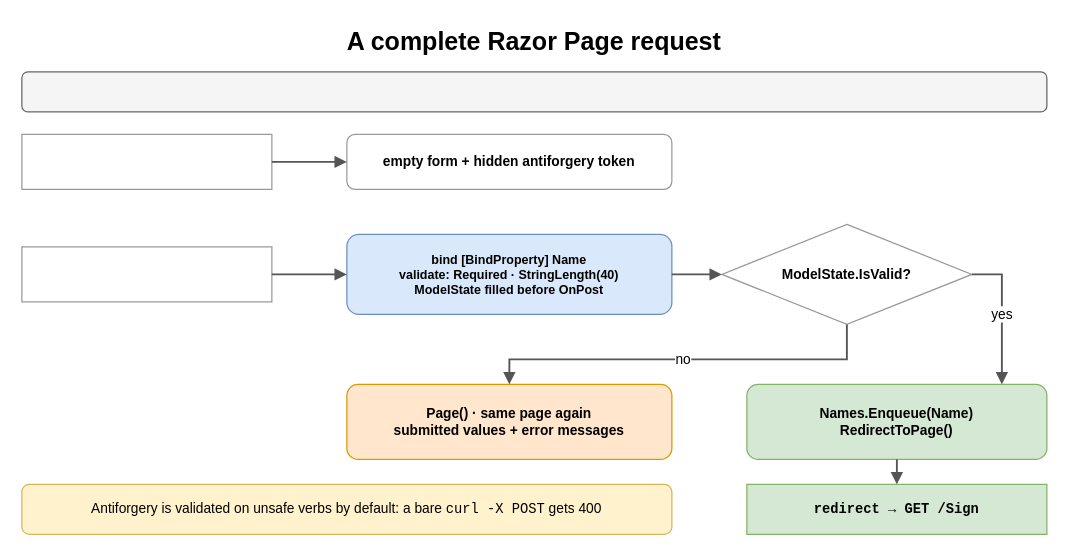
The diagram is 1069 pixels wide and 556 high, and some of its shapes have lost their labels. The centre of each missing label's shape, as x and y in pixels:
GET /Sign: pixel 146 161
POST /Sign: pixel 146 274
Post/redirect/get: refresh after success repeats a harmless GET: pixel 534 91
